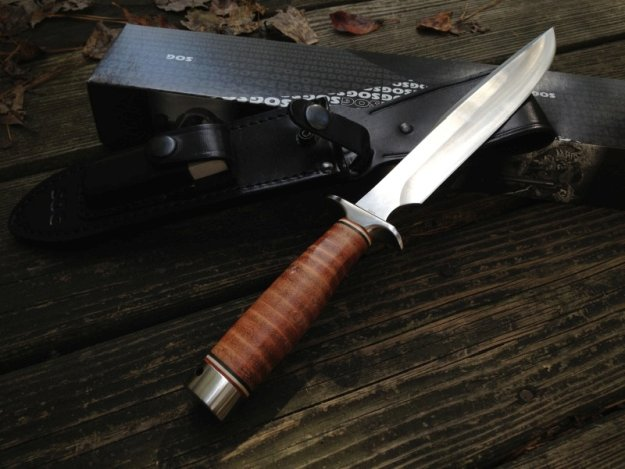knife: (360, 16, 569, 220)
